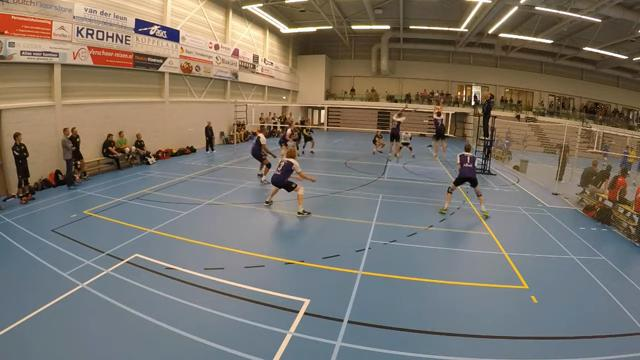Block: (386, 97, 414, 161), (425, 99, 448, 162)
Player: (440, 143, 488, 217), (264, 148, 315, 216), (251, 126, 275, 183), (278, 122, 294, 158), (395, 132, 414, 157), (302, 127, 314, 154), (372, 131, 384, 154), (293, 123, 301, 154)
ball: (435, 92, 440, 99)
